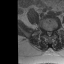CCS_normal: (48, 30, 50, 38)
LFS_severe_stenosis: (52, 28, 54, 35)
LLS_stenosis: (50, 29, 52, 36)
RFS_severe_stenosis: (45, 28, 46, 35)
RLS_normal: (46, 29, 48, 36)
